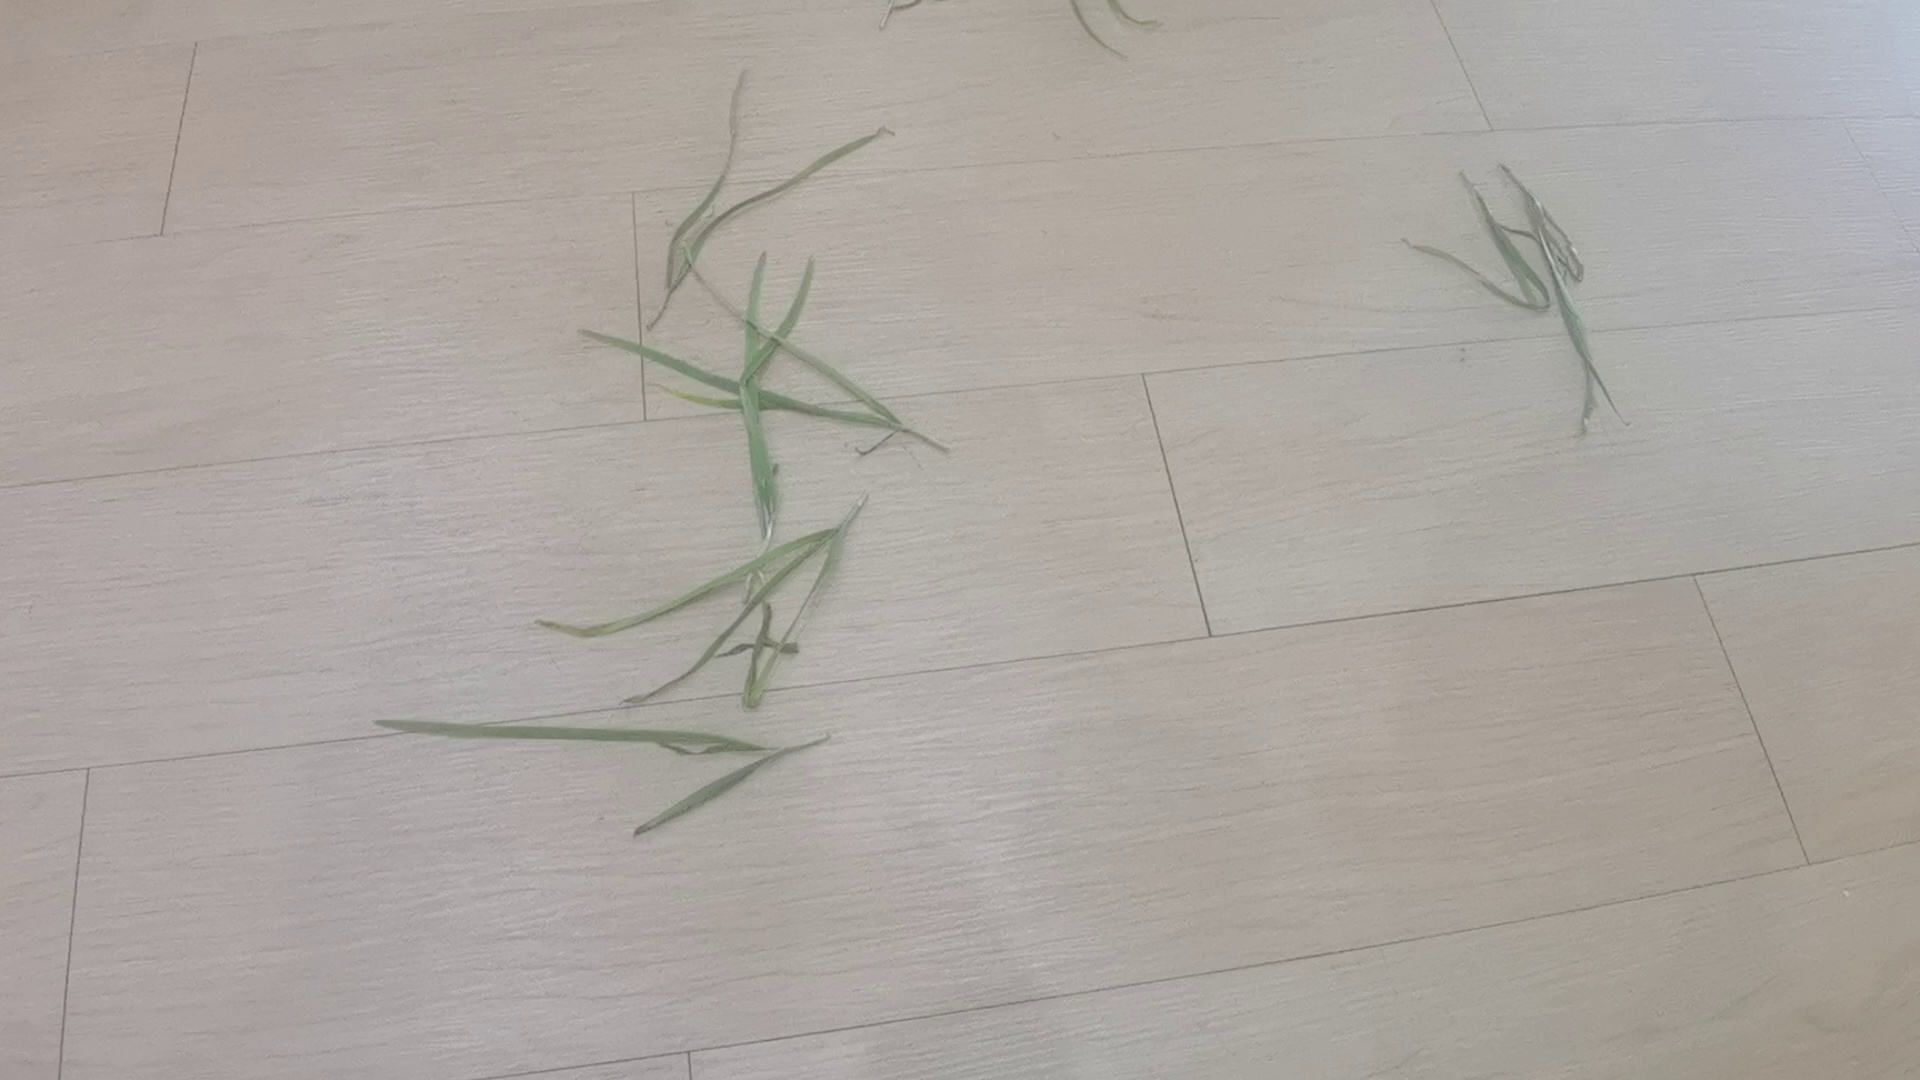chives: (583, 120, 981, 481), (409, 695, 837, 881), (541, 487, 884, 692), (1437, 144, 1644, 433)
